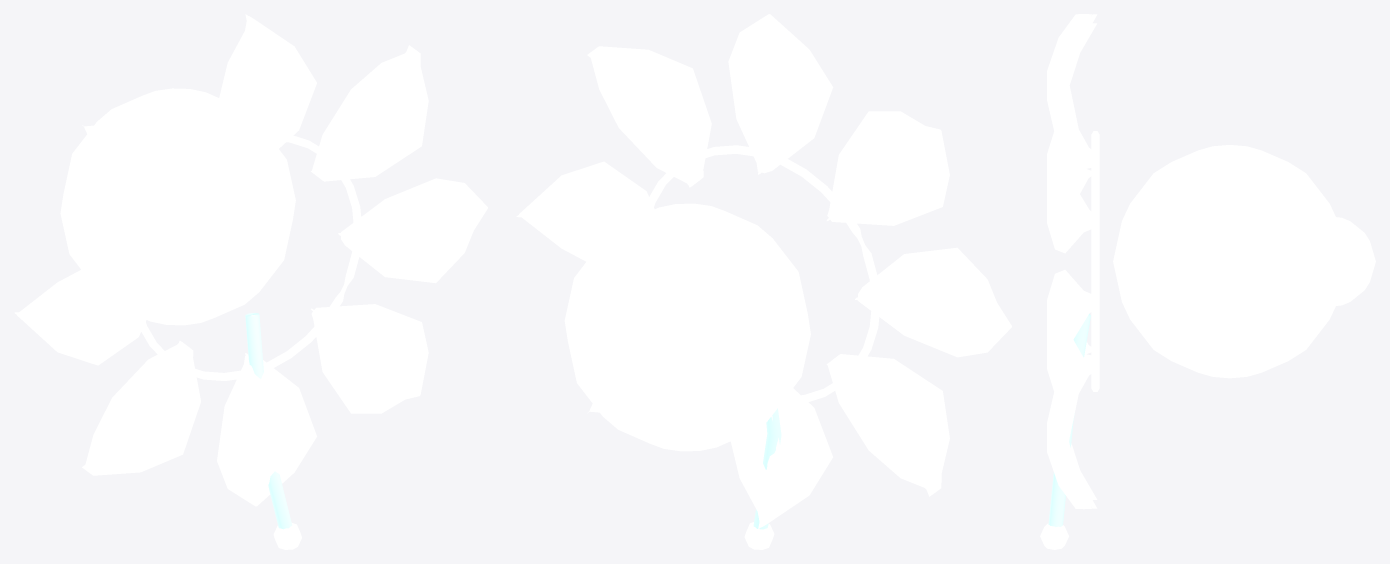
File: Flower_Gold_Bloom.glb
3 views of the same model, side by side, from view 1: azimuth 30°, elevation 25°; view 2: azimuth 150°, elevation 25°; view 3: azimuth 270°, elevation 25° (orthographic). The views are drawn at different scales.
Visible parts, largest first — view 1: Petals, ReceiverSphere_R4cm, ReceiverRim, Stem; view 2: Petals, ReceiverSphere_R4cm, PetalHighlights, PearlCore, ReceiverRim, Stem; view 3: ReceiverSphere_R4cm, Petals, PearlCore, ReceiverRim, PetalHighlights, Stem, StemBud.
Part boxes in pixels (x1,y1,x2,y2): Petals: (17,16,487,506); ReceiverSphere_R4cm: (60,88,295,325); ReceiverRim: (133,135,361,380); Stem: (245,312,292,529); Petals: (519,14,1011,527); ReceiverSphere_R4cm: (564,203,810,451); PetalHighlights: (516,21,1002,528); PearlCore: (586,325,669,414); ReceiverRim: (643,145,880,405); Stem: (753,408,781,529); ReceiverSphere_R4cm: (1113,145,1337,378); Petals: (1047,14,1091,509); PearlCore: (1334,217,1375,306); ReceiverRim: (1091,131,1099,391); PetalHighlights: (1064,14,1097,508); Stem: (1048,314,1090,526); StemBud: (1040,523,1068,549).
Bounding box in the file's own units: 0.18 × 0.195 × 0.115.
